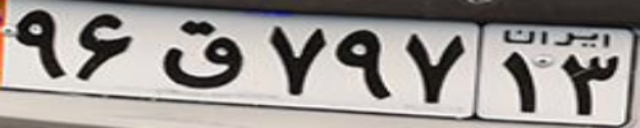1: (501, 48, 538, 113)
3: (557, 52, 622, 116)
6: (74, 11, 132, 81)
7: (404, 31, 466, 103), (267, 23, 326, 95)
9: (10, 7, 64, 80), (335, 28, 390, 99)
ghaf: (156, 20, 243, 90)
